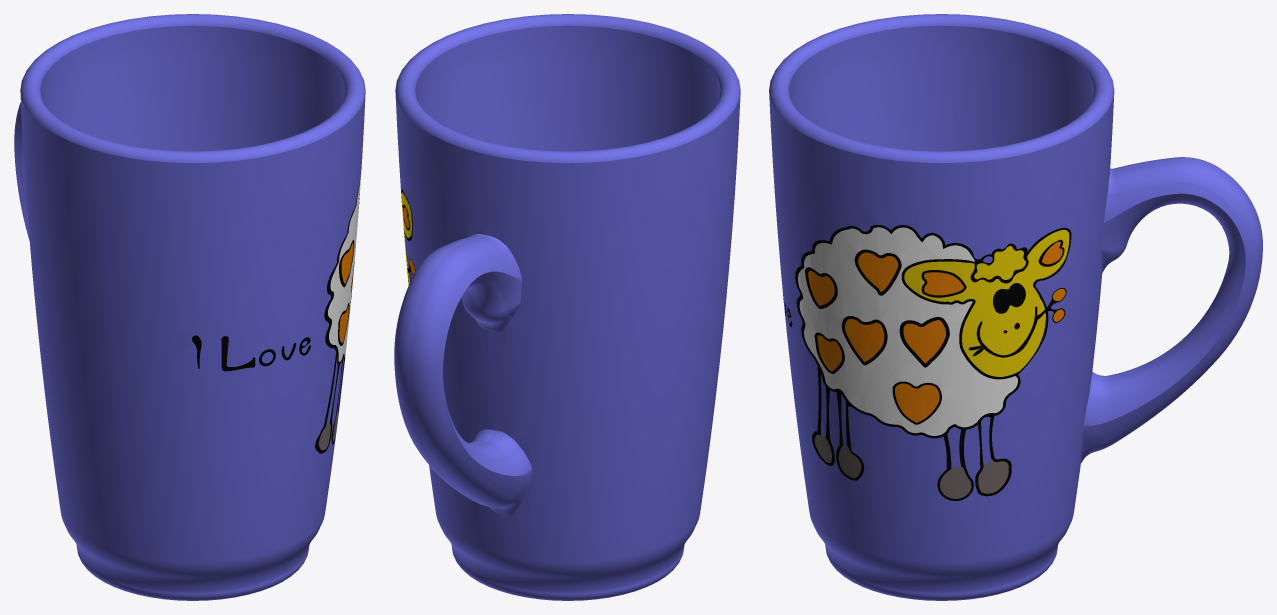
The picture shows the model from 3 angles, left to right: view 1: azimuth 30°, elevation 25°; view 2: azimuth 150°, elevation 25°; view 3: azimuth 270°, elevation 25°; orthographic projection.
Parts seen in each view (by area): view 1: mesh24_mesh24-geometry, mesh42_mesh42-geometry, mesh1_mesh1-geometry; view 2: mesh24_mesh24-geometry; view 3: mesh24_mesh24-geometry, mesh42_mesh42-geometry, mesh23_mesh23-geometry, mesh1_mesh1-geometry, mesh41_mesh41-geometry, mesh38_mesh38-geometry, mesh39_mesh39-geometry, mesh22_mesh22-geometry, mesh37_mesh37-geometry, mesh19_mesh19-geometry, mesh18_mesh18-geometry, mesh40_mesh40-geometry (+1 smaller).
Boxes of the visible parts, box(x1,y1,x2,y2) form: mesh24_mesh24-geometry: box(14, 14, 365, 600); mesh42_mesh42-geometry: box(328, 171, 361, 361); mesh1_mesh1-geometry: box(315, 167, 361, 453); mesh24_mesh24-geometry: box(394, 14, 740, 600); mesh24_mesh24-geometry: box(769, 14, 1262, 600); mesh42_mesh42-geometry: box(798, 227, 1017, 435); mesh23_mesh23-geometry: box(904, 229, 1069, 376); mesh1_mesh1-geometry: box(795, 225, 1071, 500); mesh41_mesh41-geometry: box(895, 383, 939, 422); mesh38_mesh38-geometry: box(903, 320, 945, 363); mesh39_mesh39-geometry: box(845, 319, 884, 362); mesh22_mesh22-geometry: box(974, 246, 1025, 279); mesh37_mesh37-geometry: box(858, 252, 898, 292); mesh19_mesh19-geometry: box(978, 461, 1008, 493); mesh18_mesh18-geometry: box(940, 466, 971, 498); mesh40_mesh40-geometry: box(924, 272, 963, 295).
Bounding box in the file's own units: 0.4337 × 0.6536 × 0.6203.
